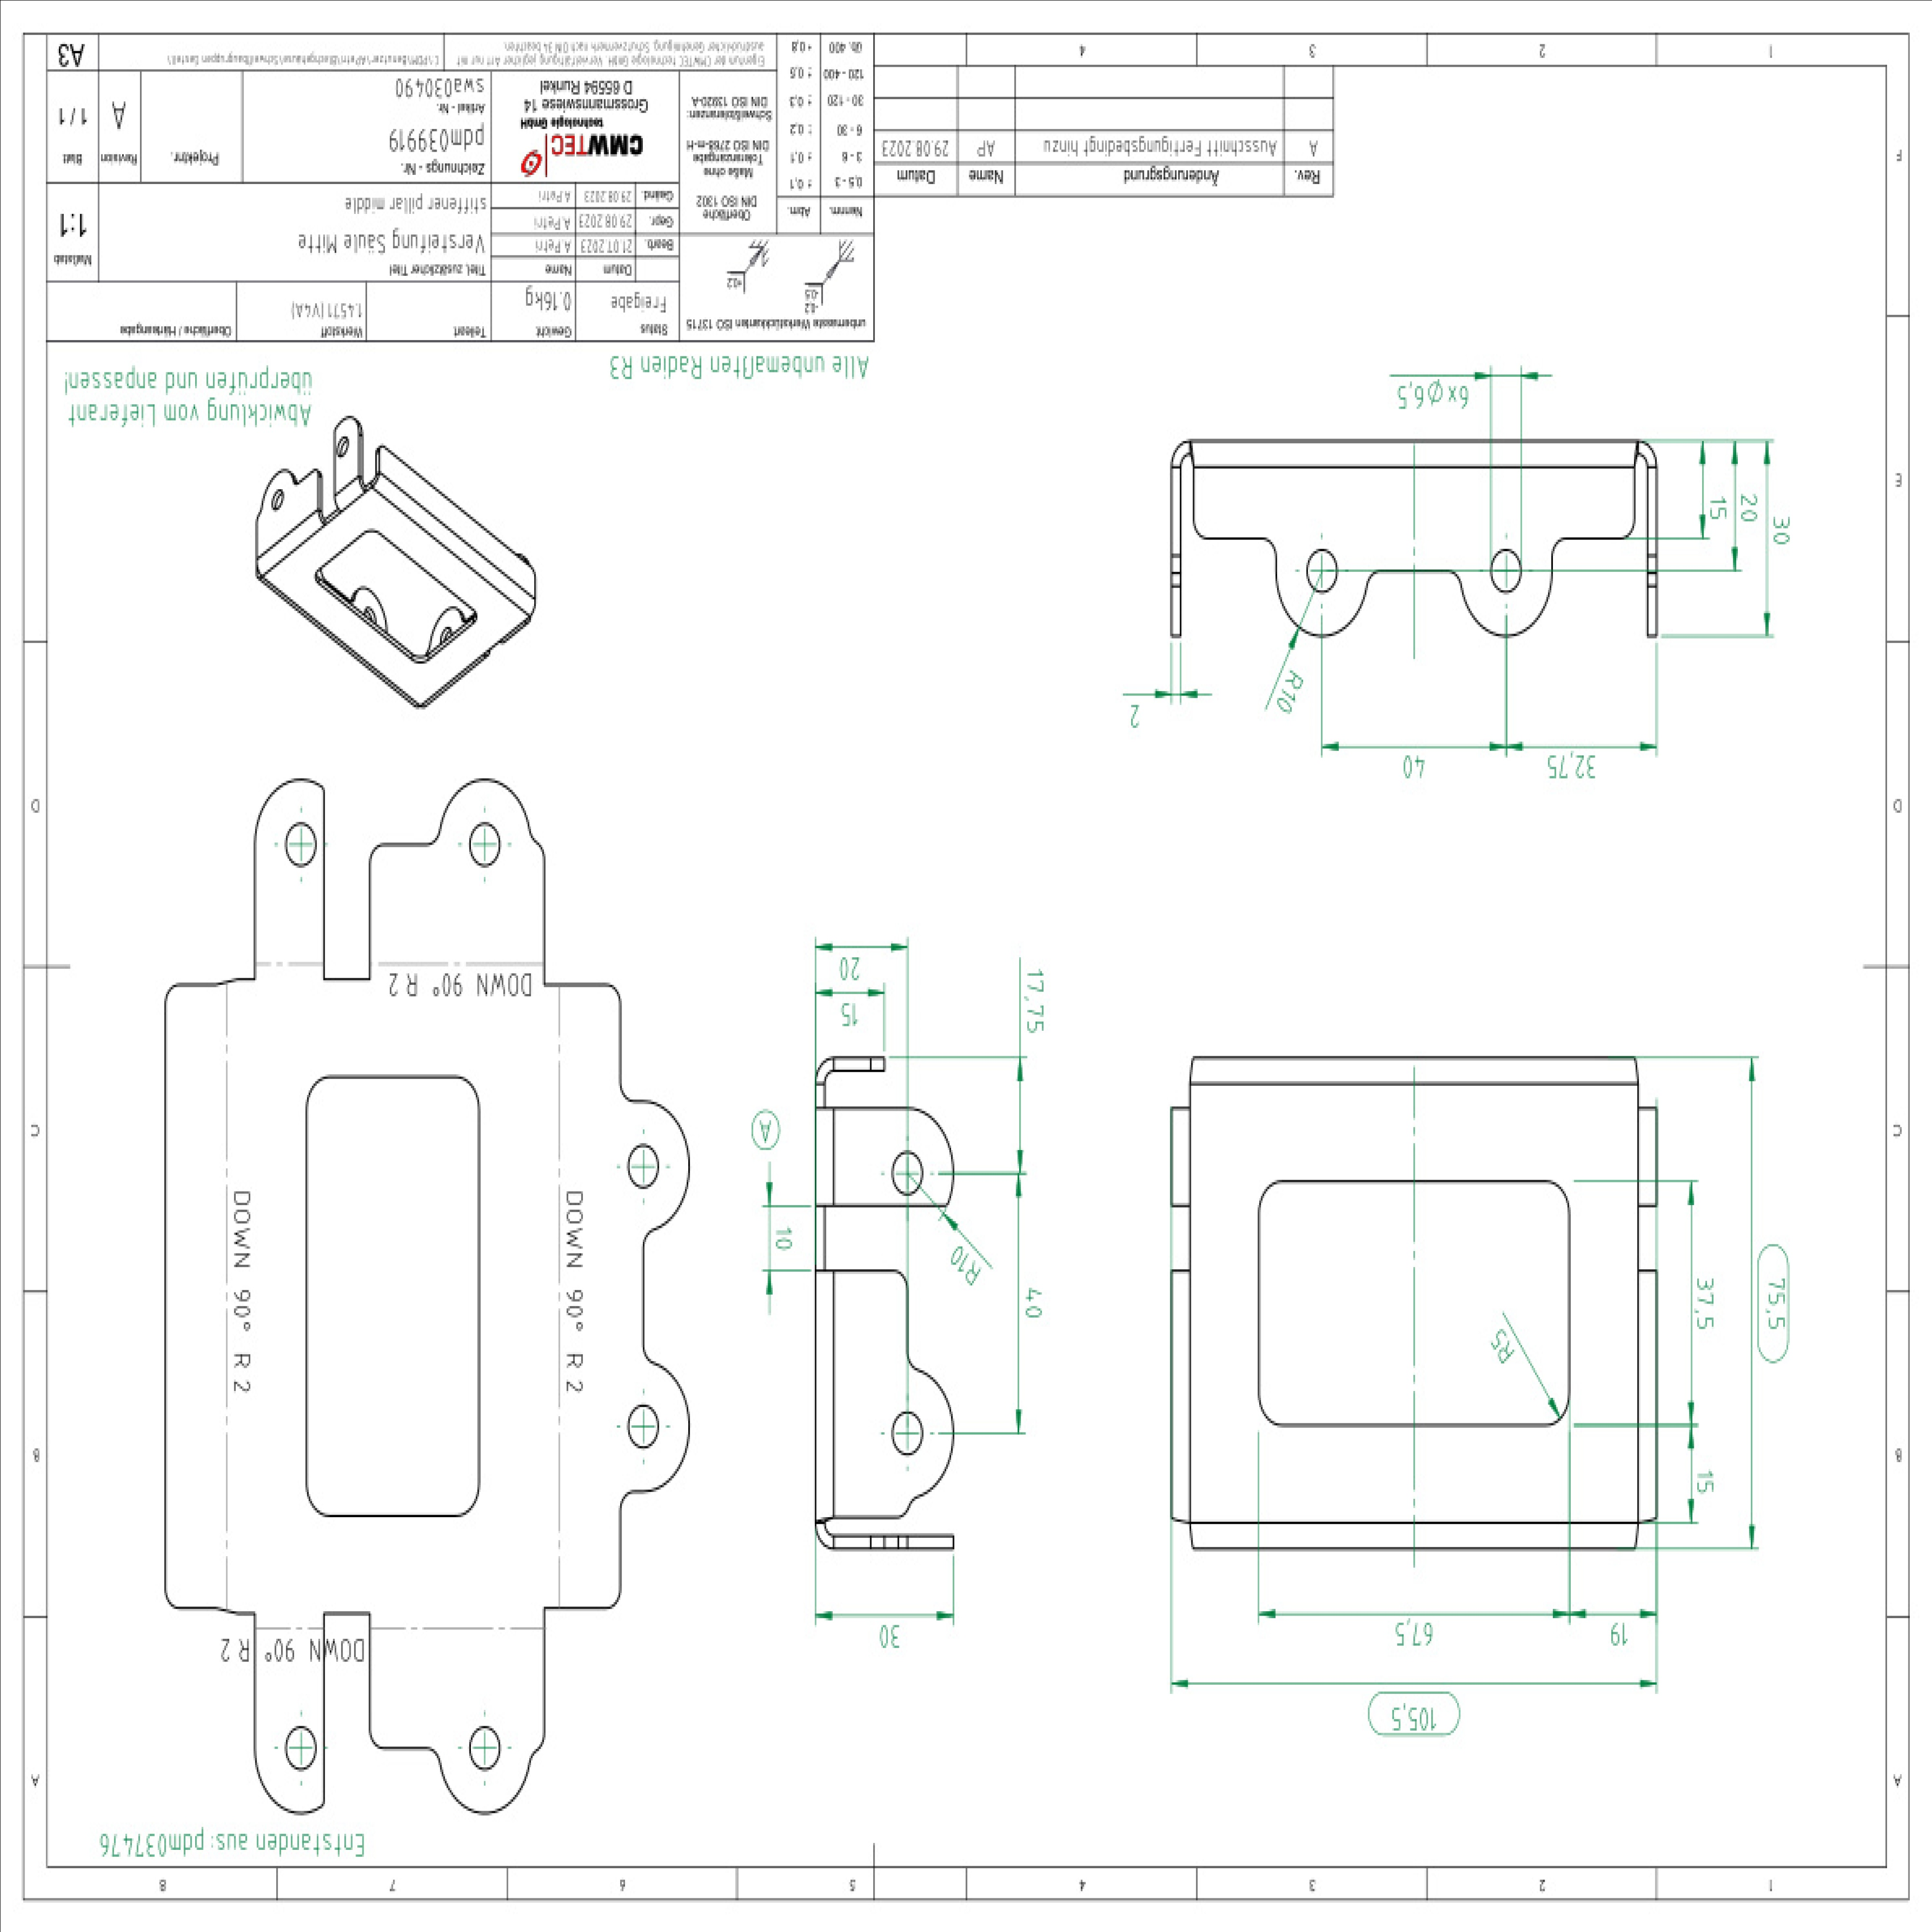BendingEdgeCurve: (1635, 439, 1664, 473), (1166, 439, 1195, 468), (814, 1518, 838, 1552), (813, 1054, 836, 1087)
InnerContour: (624, 1135, 663, 1195), (624, 1399, 662, 1452), (465, 819, 503, 869), (1305, 545, 1339, 597), (468, 1720, 501, 1773), (279, 1726, 317, 1773), (888, 1148, 925, 1195), (281, 818, 315, 868), (1487, 549, 1526, 594), (889, 1408, 925, 1456)
InnerContourAngular: (298, 1066, 487, 1524), (1254, 1172, 1575, 1431)
Notch: (315, 778, 387, 987), (315, 1605, 381, 1812), (821, 1200, 953, 1278), (638, 1199, 691, 1389)
